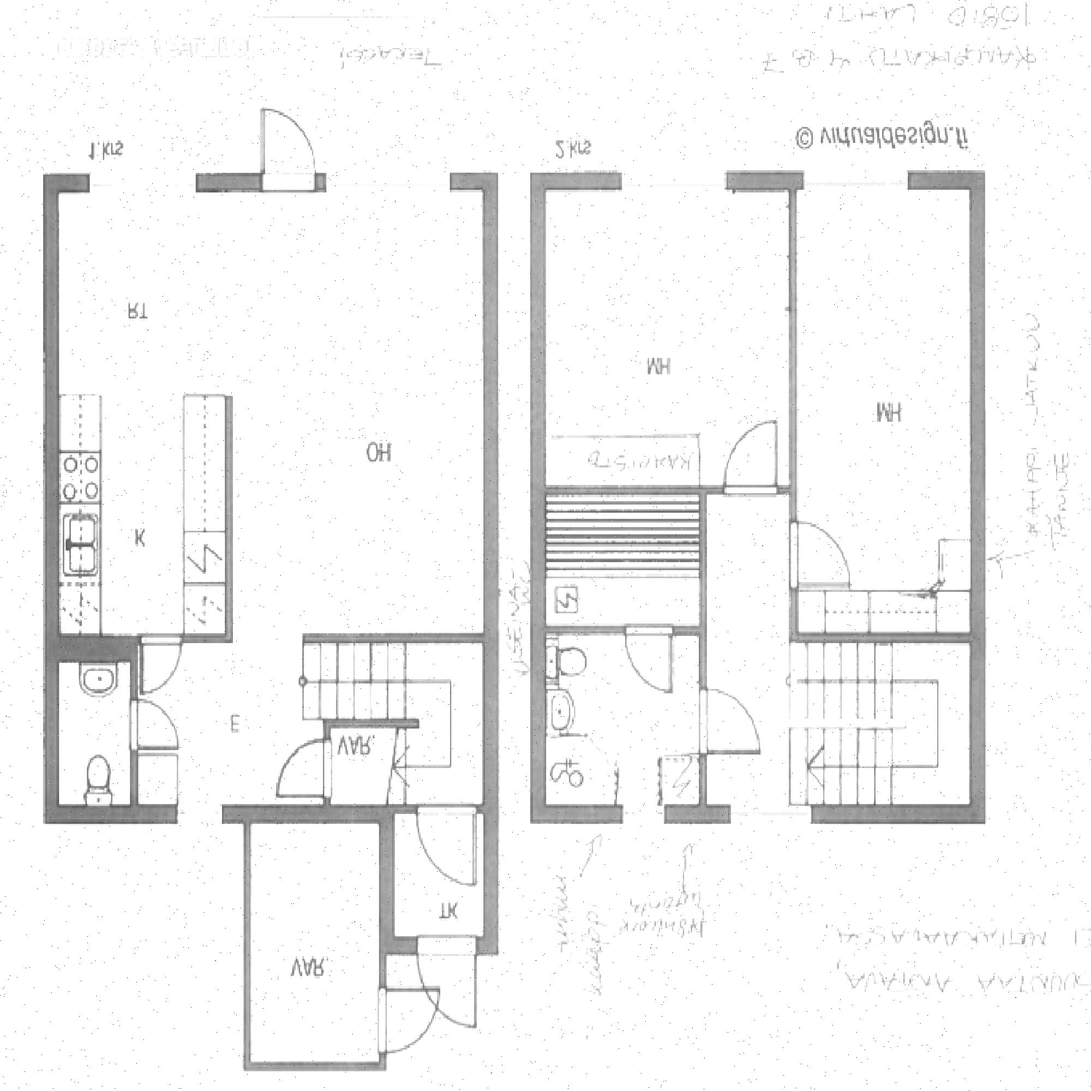wall: (483, 173, 498, 955), (42, 173, 58, 823), (531, 172, 546, 823), (971, 172, 985, 823), (42, 173, 498, 192), (531, 172, 985, 190), (531, 805, 985, 823), (42, 804, 250, 823), (250, 804, 394, 823), (378, 936, 498, 955), (546, 485, 797, 494), (700, 494, 707, 805), (790, 190, 797, 494), (378, 804, 394, 936), (57, 634, 137, 660), (226, 393, 233, 643), (789, 631, 970, 640), (244, 804, 250, 1070), (302, 634, 483, 642), (546, 623, 700, 632), (244, 1061, 386, 1070), (789, 484, 797, 640), (130, 634, 137, 803), (378, 936, 386, 1070), (378, 804, 482, 813), (131, 635, 233, 643), (324, 719, 418, 727), (546, 632, 558, 684), (324, 719, 331, 804)
